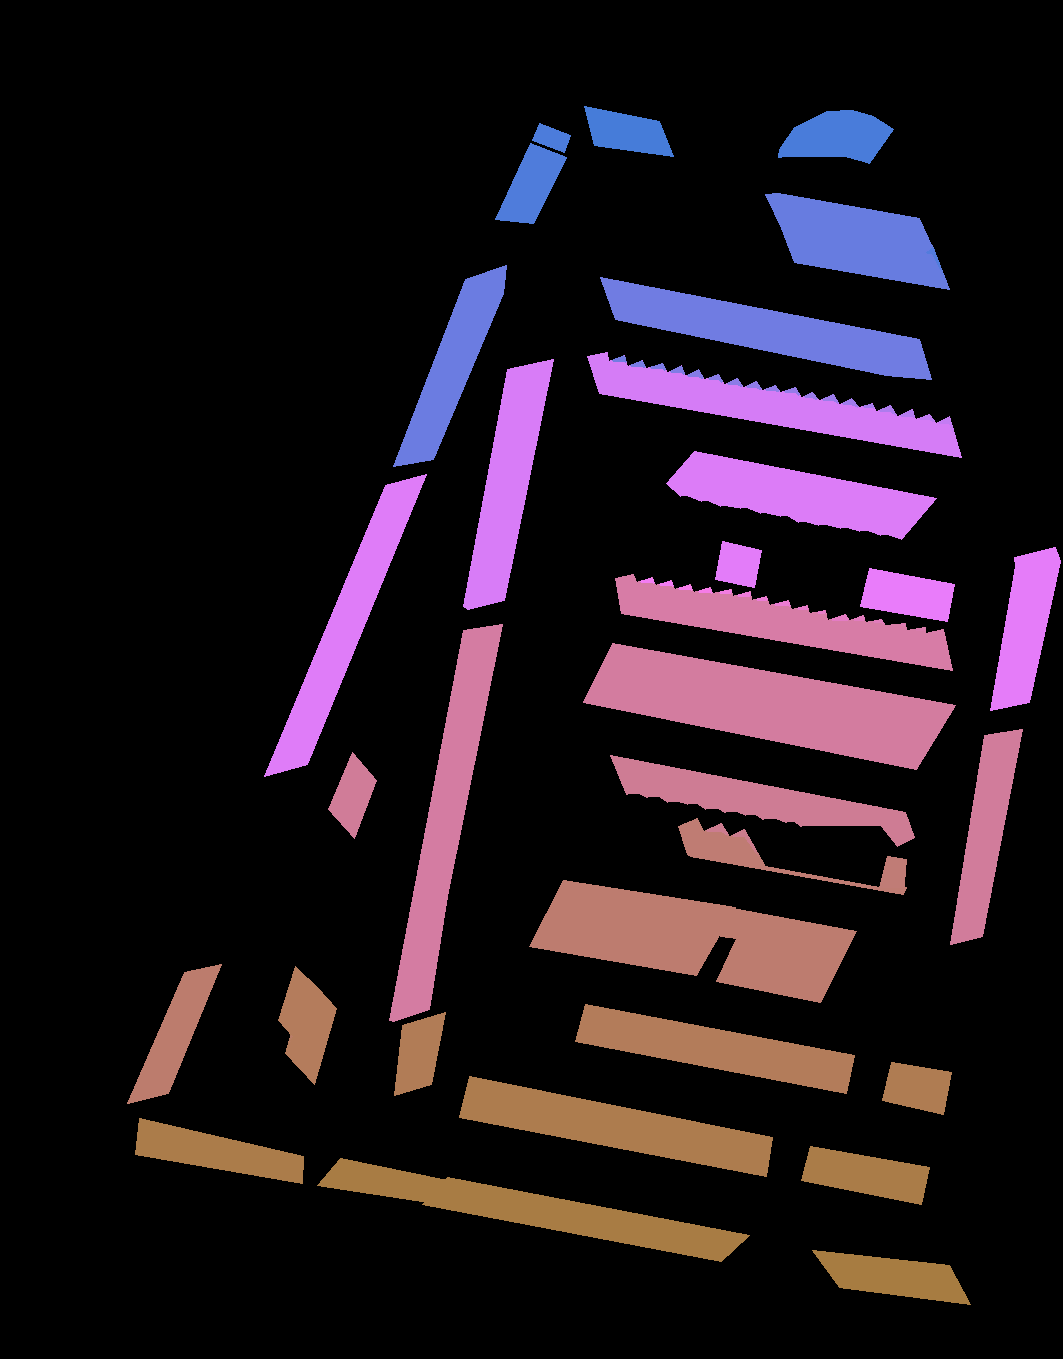parkingspot: (264, 473, 426, 775), (583, 643, 955, 769), (388, 623, 502, 1021), (587, 352, 960, 457), (600, 277, 931, 379), (615, 574, 952, 670), (459, 1076, 772, 1176), (610, 755, 914, 846), (422, 1177, 749, 1261), (575, 1004, 853, 1093), (666, 451, 936, 539), (393, 265, 506, 466), (463, 359, 552, 609), (529, 880, 735, 975), (678, 818, 906, 893), (951, 729, 1022, 944), (716, 907, 856, 1002), (127, 964, 221, 1103), (781, 221, 949, 289), (990, 547, 1060, 710), (765, 193, 932, 258), (135, 1119, 303, 1183), (812, 1250, 970, 1304), (801, 1146, 928, 1203), (779, 110, 893, 163), (316, 1158, 447, 1202), (495, 143, 566, 223), (284, 987, 336, 1084), (860, 568, 954, 621), (393, 1012, 445, 1095), (584, 106, 673, 156), (328, 751, 376, 838), (882, 1062, 951, 1114), (278, 966, 320, 1039), (715, 541, 761, 587), (531, 124, 570, 152)
